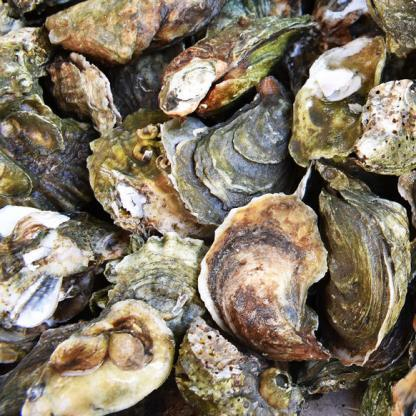Oyster- Indeterminate: (198, 193, 330, 362), (161, 77, 299, 226), (158, 13, 319, 119), (43, 53, 123, 133), (146, 0, 229, 53), (0, 26, 56, 104), (366, 0, 416, 63), (48, 333, 109, 377), (1, 112, 64, 153), (0, 143, 35, 199), (109, 330, 153, 371)
Oyster-Closed: (314, 162, 411, 366), (22, 300, 176, 416), (86, 110, 218, 245), (0, 205, 131, 328), (104, 232, 215, 350), (288, 35, 387, 167), (0, 81, 99, 212), (176, 318, 306, 416), (44, 0, 172, 67), (353, 79, 416, 176)
Oyster-Open: (94, 37, 194, 123)
